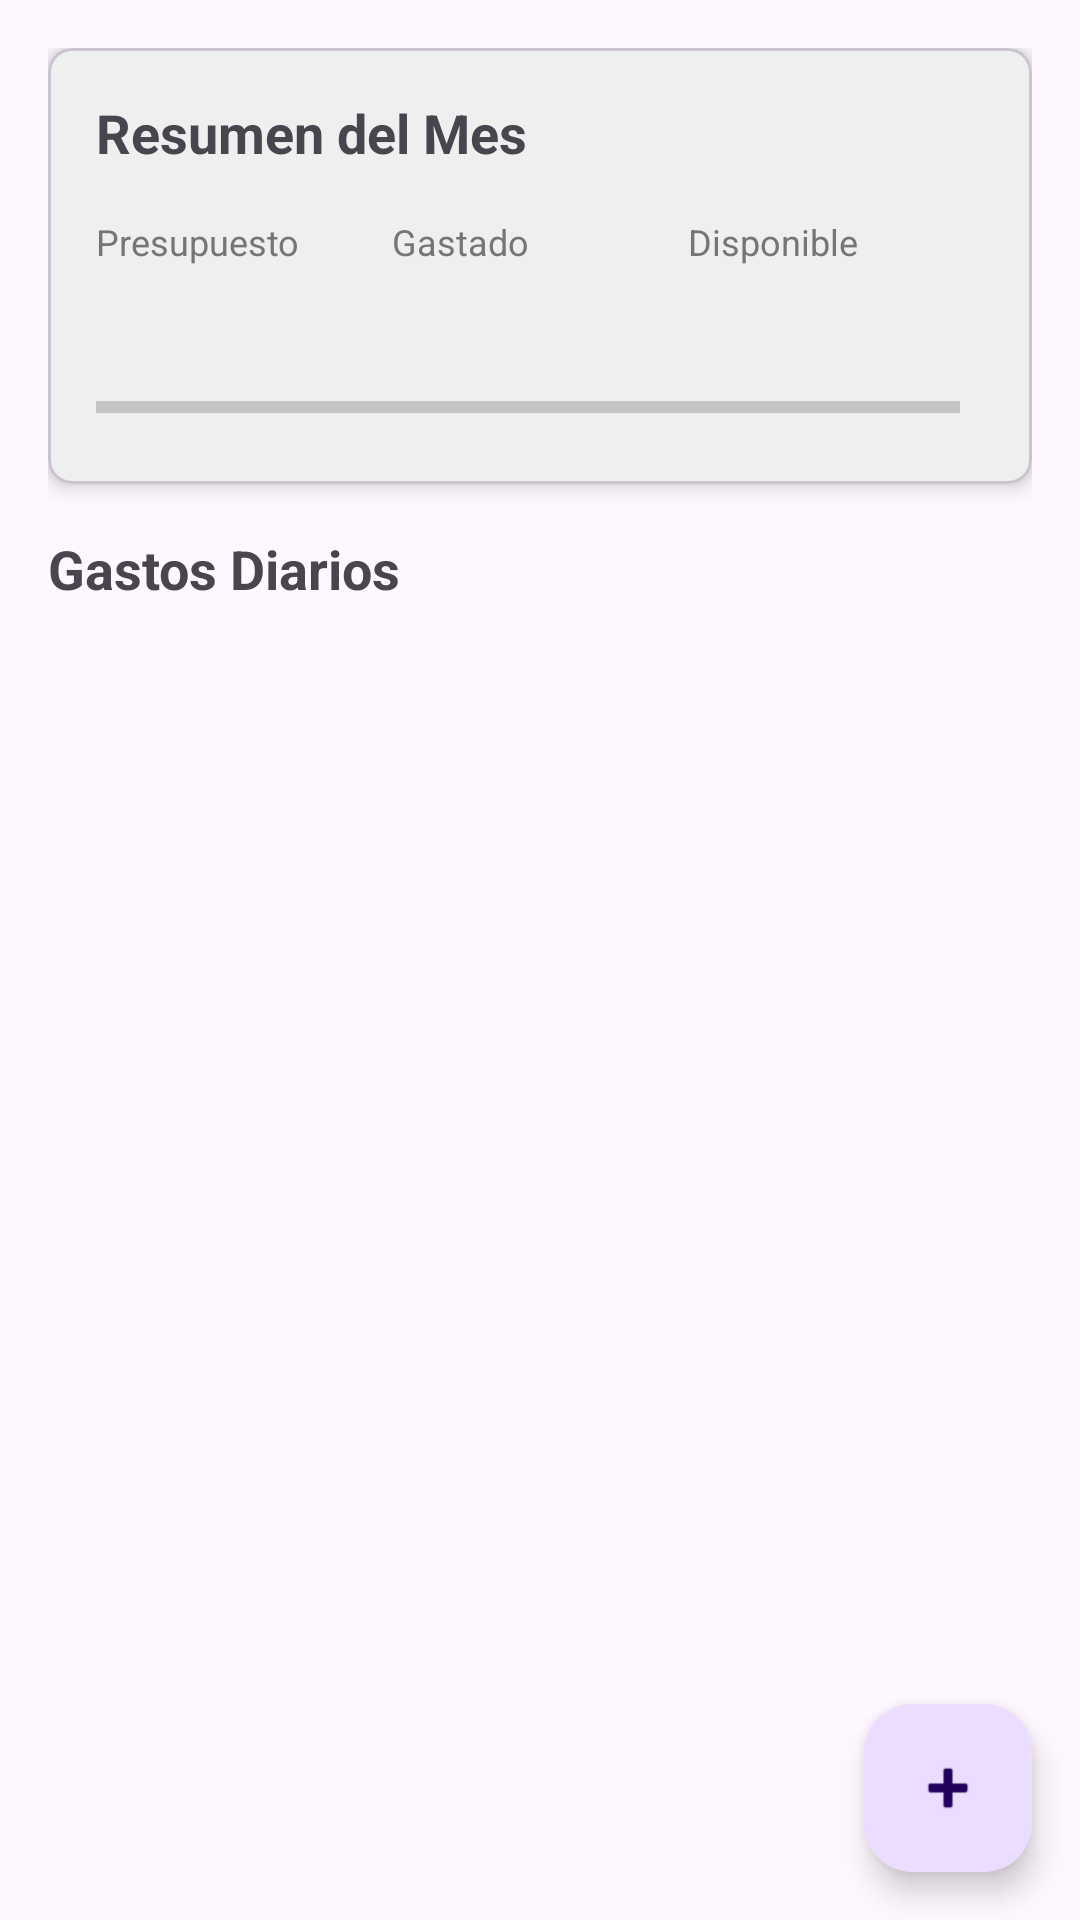

Icons on this 1080*1920 Android screen, each with its box as (x1,y1,x2,y2):
Agregar Gasto: (864,1704,1032,1872)
